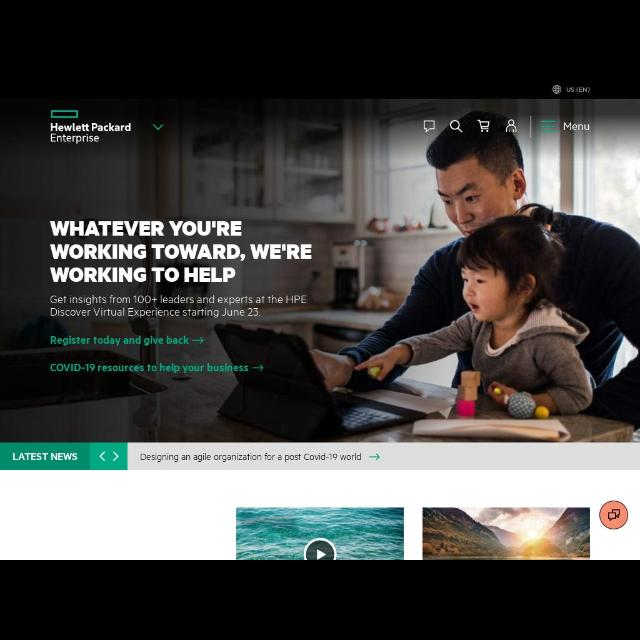backgroundimage: (1, 98, 639, 442)
button: (600, 500, 628, 530)
icon: (542, 119, 556, 133), (608, 508, 620, 522), (423, 120, 435, 132), (450, 120, 462, 132), (478, 120, 490, 132), (252, 362, 264, 372), (506, 120, 516, 130), (152, 122, 164, 130), (369, 453, 381, 461), (192, 336, 204, 344), (552, 84, 560, 95), (100, 450, 106, 462), (112, 451, 118, 463)
image: (236, 507, 404, 559), (422, 508, 590, 558)
text: (49, 220, 314, 284), (49, 294, 307, 316), (139, 452, 363, 462), (50, 122, 132, 144), (50, 363, 248, 372), (50, 336, 188, 346), (12, 452, 78, 461), (564, 122, 590, 132), (566, 86, 590, 94)
